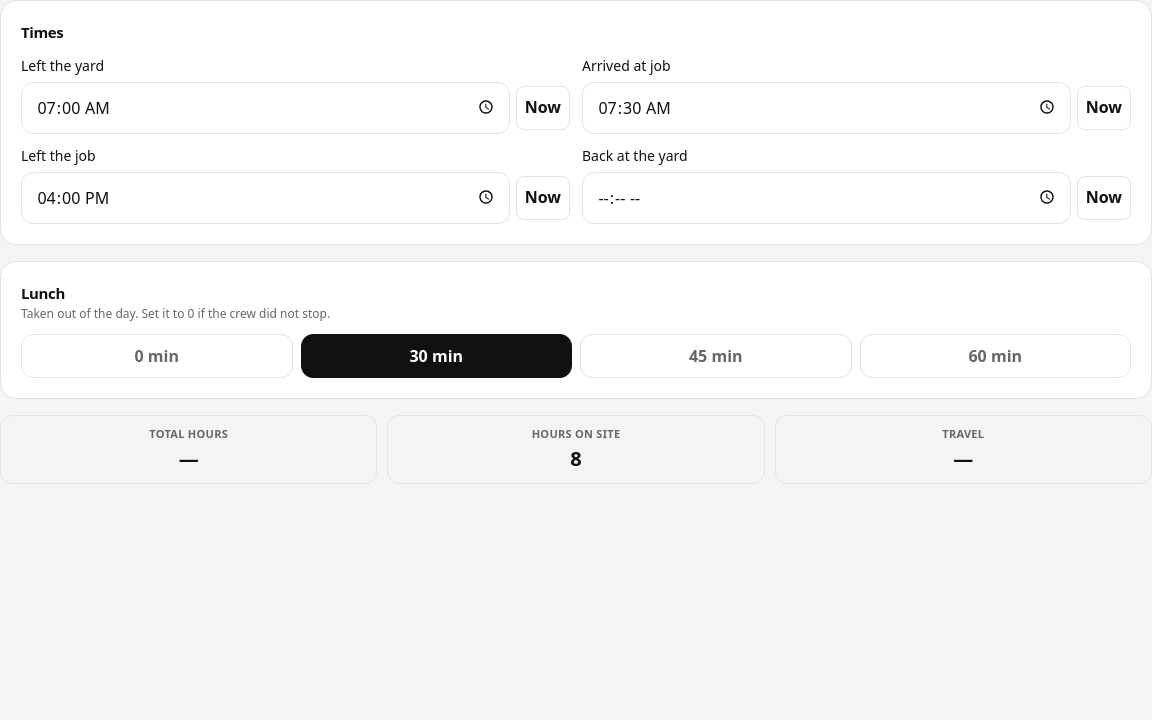
Scenario: times that contradict each other › flags the AM/PM slip on the return to the yard
The width and height of the screenshot is (1152, 720).
Type "04:30" into the time field labelled "Back at the yard".
click(826, 198); type("04:30")  # box [582,172,1071,224]
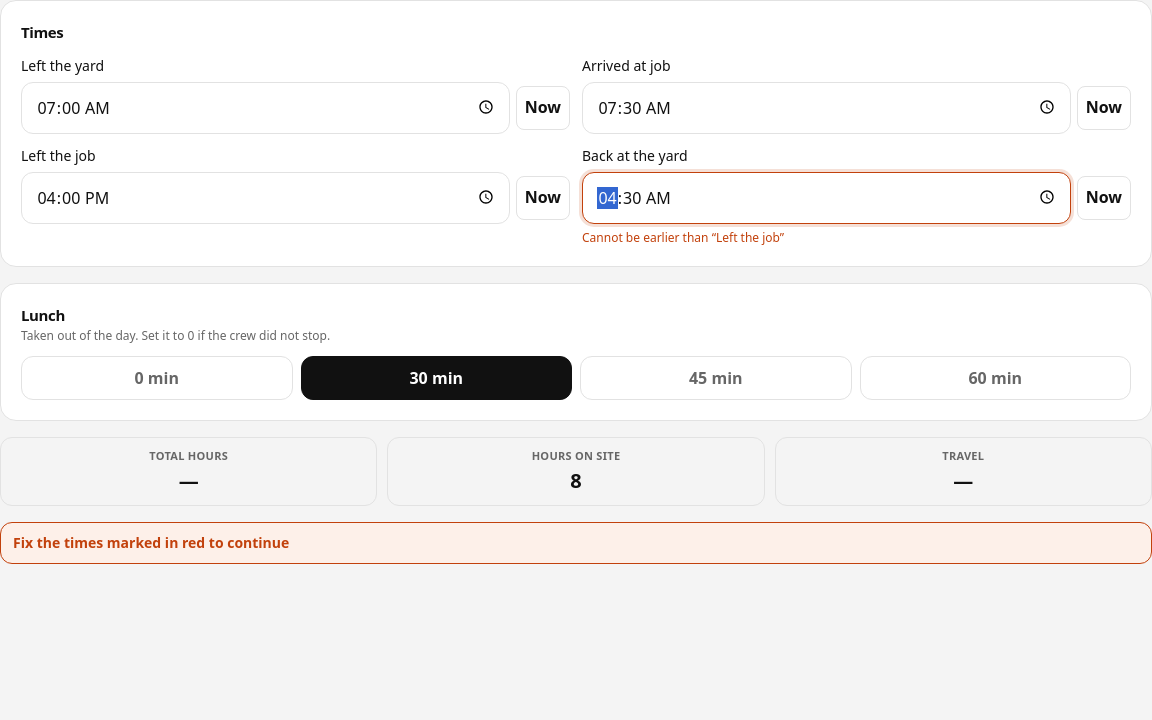
Now the message reads "Cannot be earlier than “Left the job”", box [582,228,784,246]
